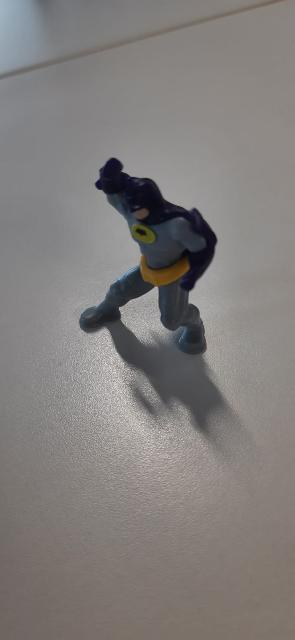Batman: (69, 152, 230, 366)
